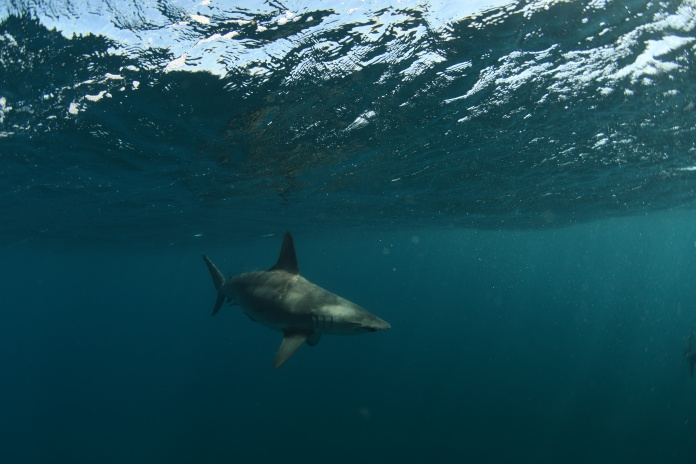Hammer: (185, 225, 405, 374)
